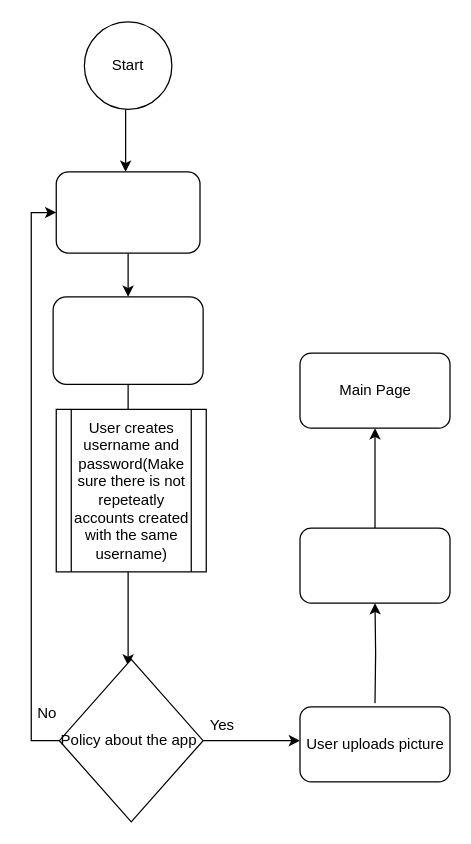
Some shapes in this 471 by 844 pixel diagram are drawn without their labels. The shapes that lost their labels are listed below. From the top down, each one's centre as x and y in pixels, then its label:
(127,212): Sign up
(127,340): Enter email and phone number
(374,565): User bibliography (Description of him)
